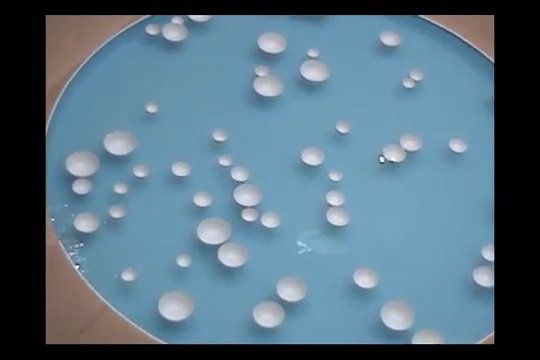bowl: (157, 290, 195, 323), (379, 298, 416, 329), (196, 217, 233, 244), (252, 299, 285, 329), (65, 151, 101, 178), (102, 130, 139, 155), (276, 275, 307, 304), (299, 59, 330, 85), (256, 31, 288, 56), (218, 242, 249, 267), (252, 76, 284, 100), (234, 182, 263, 207), (352, 266, 379, 289), (72, 211, 101, 232), (410, 328, 447, 344), (472, 262, 494, 288), (162, 23, 189, 42), (326, 207, 351, 227), (383, 143, 407, 163), (301, 147, 326, 166), (400, 133, 423, 153), (379, 29, 402, 48), (171, 160, 193, 178), (261, 211, 282, 229), (192, 191, 214, 208), (72, 178, 92, 196), (334, 120, 354, 137), (230, 166, 250, 183), (449, 137, 468, 154), (240, 206, 259, 223), (325, 190, 346, 205), (108, 204, 128, 219), (120, 267, 139, 281), (482, 241, 494, 263), (212, 129, 229, 144), (143, 101, 161, 115), (132, 164, 149, 178), (145, 22, 162, 36), (401, 76, 418, 90), (175, 252, 192, 266), (328, 170, 346, 183), (410, 68, 425, 83), (112, 182, 129, 195), (188, 13, 212, 22), (218, 154, 233, 167), (254, 64, 270, 76), (306, 47, 321, 58), (170, 15, 185, 24)
